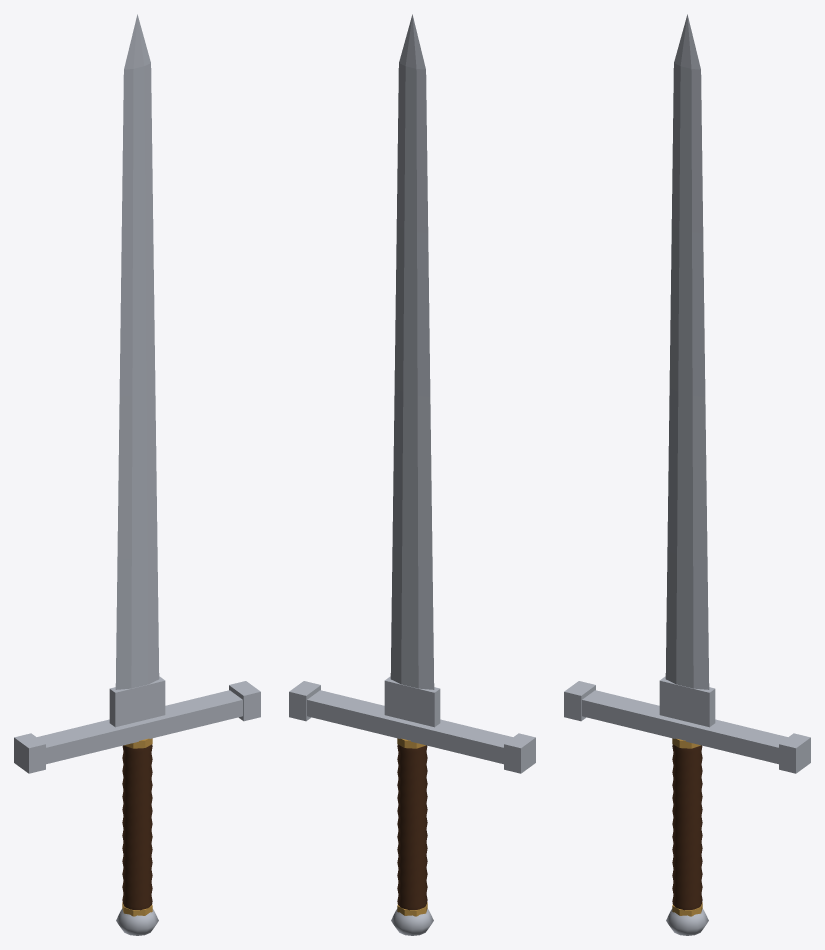
The model's file is greatsword.glb.
3 views of the same model, side by side, from view 1: azimuth 30°, elevation 25°; view 2: azimuth 150°, elevation 25°; view 3: azimuth 330°, elevation 25° (orthographic).
Parts seen in each view (by area): view 1: Greatsword_Blade, Greatsword_Guard, Greatsword_Grip, Greatsword_Pommel; view 2: Greatsword_Blade, Greatsword_Guard, Greatsword_Grip, Greatsword_Pommel; view 3: Greatsword_Blade, Greatsword_Guard, Greatsword_Grip, Greatsword_Pommel.
Part boxes in pixels (x1,y1,x2,y2): Greatsword_Blade: (115,14,159,689); Greatsword_Guard: (14,676,260,773); Greatsword_Grip: (122,744,152,910); Greatsword_Pommel: (116,909,158,935); Greatsword_Blade: (390,14,434,689); Greatsword_Guard: (289,676,535,773); Greatsword_Grip: (397,744,427,910); Greatsword_Pommel: (391,909,433,935); Greatsword_Blade: (665,14,709,689); Greatsword_Guard: (564,676,810,773); Greatsword_Grip: (672,744,702,910); Greatsword_Pommel: (666,909,708,935).
Bounding box in the file's own units: 0.324 × 1.23 × 0.052.
